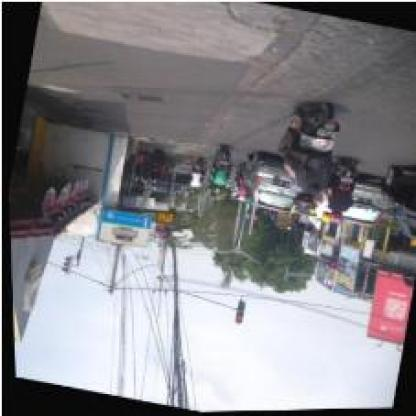red: (229, 300, 244, 324), (326, 246, 341, 270)
